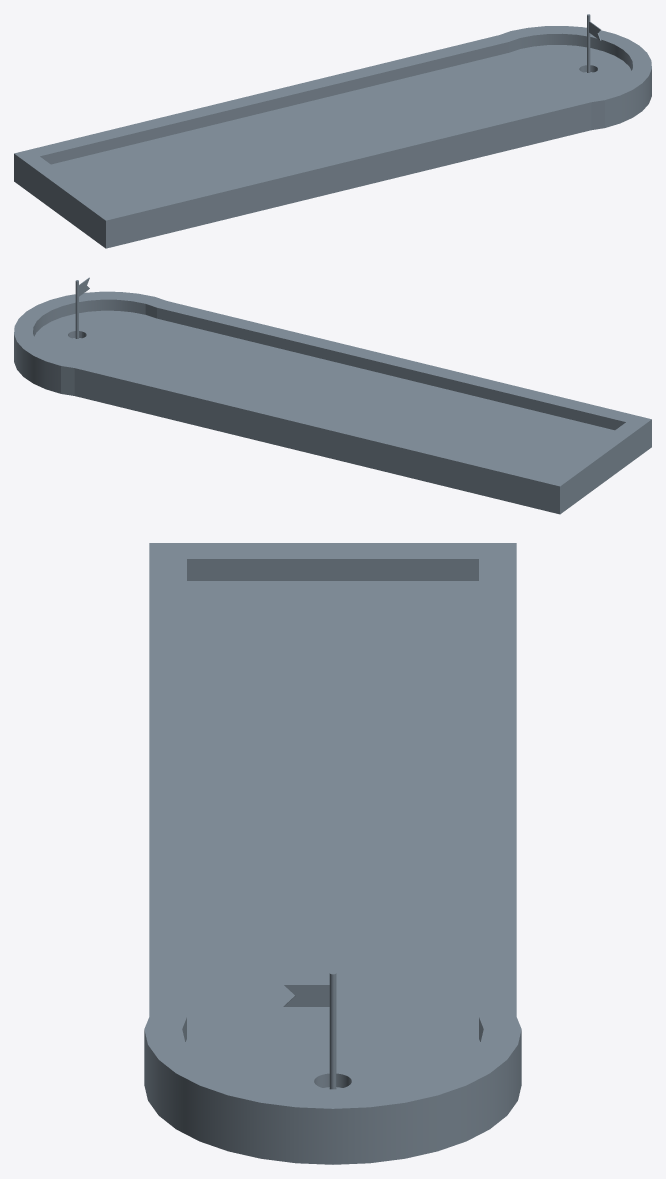
Rendered from golfvr-terrainminigolf.glb.
The picture shows the model from 3 angles, top to bottom: view 1: azimuth 30°, elevation 25°; view 2: azimuth 150°, elevation 25°; view 3: azimuth 270°, elevation 25°; orthographic projection. The views are drawn at different scales.
Visible parts, largest first — view 1: Cube, Cylinder; view 2: Cube, Cylinder; view 3: Cube, Cylinder.
Boxes of the visible parts, x1=… form: Cube: x1=14, y1=26, x2=651, y2=248; Cylinder: x1=587, y1=14, x2=601, y2=72; Cube: x1=14, y1=291, x2=651, y2=514; Cylinder: x1=75, y1=277, x2=89, y2=338; Cube: x1=144, y1=543, x2=521, y2=1164; Cylinder: x1=283, y1=971, x2=336, y2=1089.
Bounding box in the file's own units: 4 × 0.4689 × 1.13.
